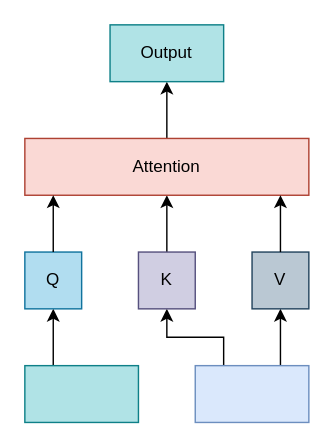
Image size: 334x447. Some labels were removed from this diagram. The box of each missing label's shape, as (x1, y1, x2, y2) in pixels:
Window Features: (194, 364, 309, 422)
Window Input: (23, 364, 138, 422)
